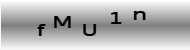1: (108, 11, 122, 24)
M: (51, 15, 71, 28)
U: (82, 22, 97, 36)
f: (36, 22, 46, 37)
n: (132, 9, 146, 21)
